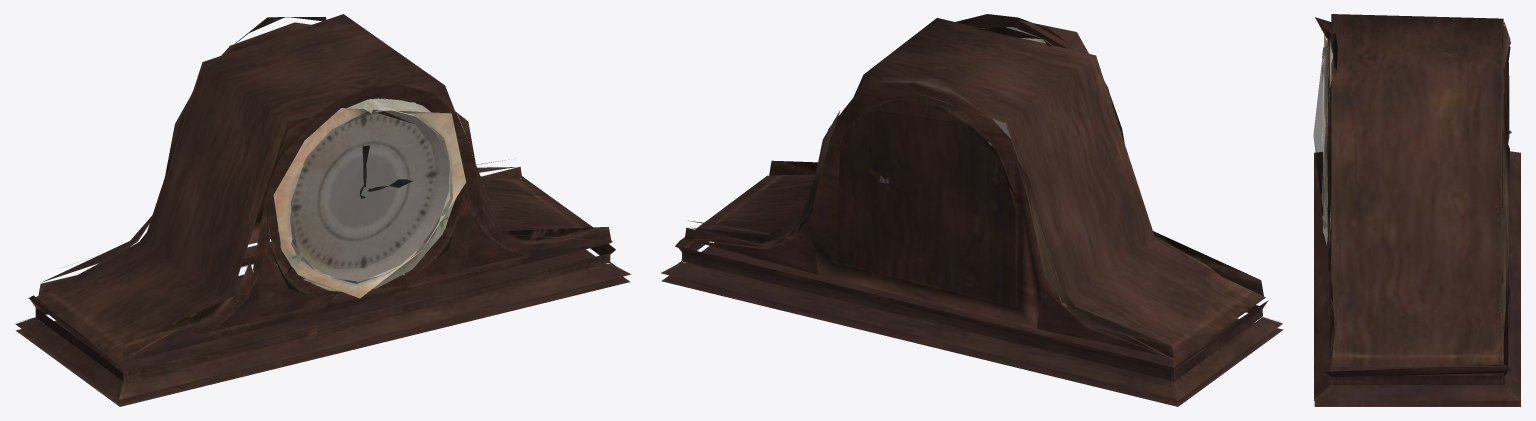
File: ph_mantel_clock_01.glb
3 views of the same model, side by side, from view 1: azimuth 30°, elevation 25°; view 2: azimuth 150°, elevation 25°; view 3: azimuth 270°, elevation 25° (orthographic). The views are drawn at different scales.
Parts seen in each view (by area): view 1: mantel_clock_01; view 2: mantel_clock_01; view 3: mantel_clock_01.
Part boxes in pixels (x1,y1,x2,y2): mantel_clock_01: (15,14,631,406); mantel_clock_01: (661,14,1283,406); mantel_clock_01: (1313,14,1520,406).
Size of the model in its own units: 0.3377 by 0.1632 by 0.1201.
Materials: 2 (2 with a texture image).
